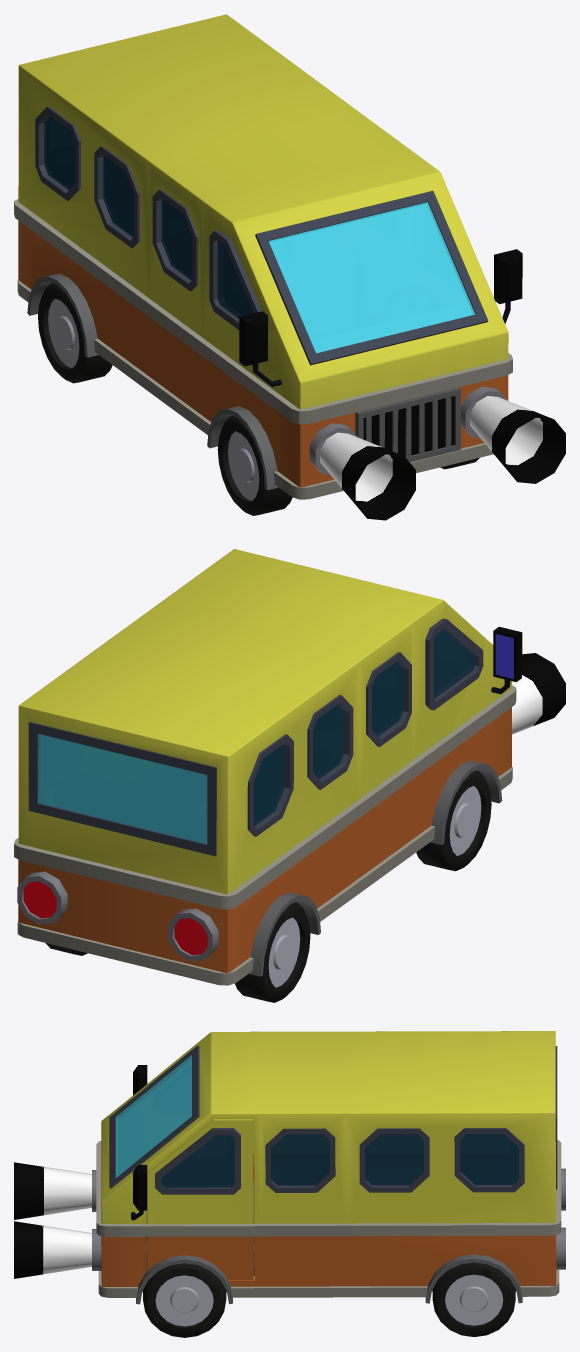
The model's file is Hussy Hicks Van.fbx.
3 views of the same model, one above another, from view 1: azimuth 30°, elevation 25°; view 2: azimuth 150°, elevation 25°; view 3: azimuth 270°, elevation 25° (orthographic). The views are drawn at different scales.
Visible parts, largest first — view 1: Van Body; view 2: Van Body; view 3: Van Body, Van Door.
Part boxes in pixels (x1,y1,x2,y2): Van Body: [14, 14, 565, 520]; Van Body: [14, 549, 565, 1002]; Van Body: [14, 1031, 565, 1337]; Van Door: [147, 1119, 253, 1280].
Size of the model in its own units: 3.42 by 3.28 by 7.33.
